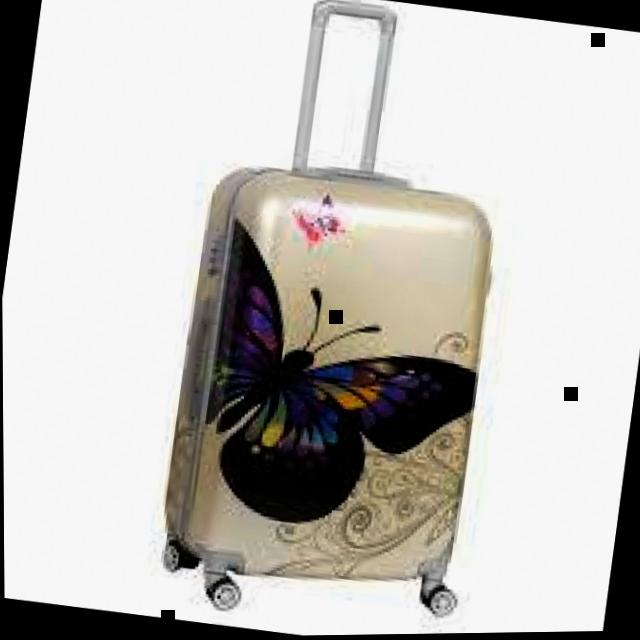luggage: (146, 142, 518, 616)
